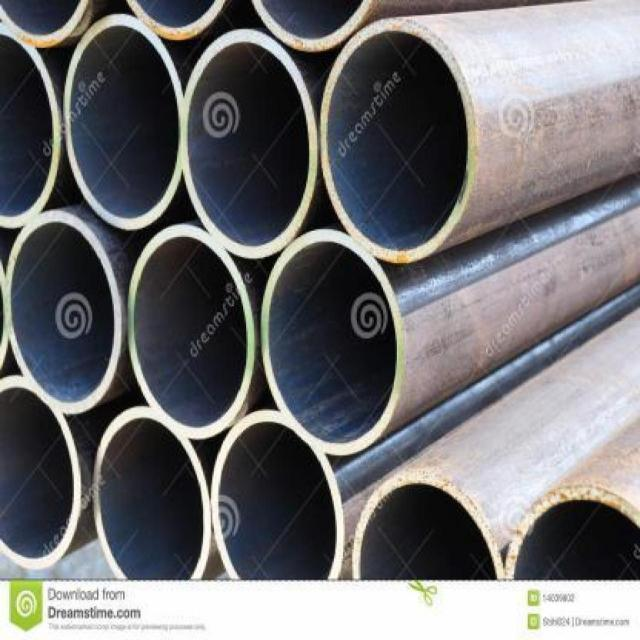pipe: (319, 17, 476, 262), (259, 229, 404, 456), (181, 27, 316, 260), (127, 223, 255, 438), (62, 13, 182, 230), (5, 209, 121, 414), (211, 410, 345, 581), (93, 407, 211, 587), (353, 470, 504, 582), (0, 376, 80, 569), (506, 483, 640, 580), (0, 31, 60, 228), (250, 0, 375, 50), (0, 0, 92, 49), (127, 0, 227, 40)
